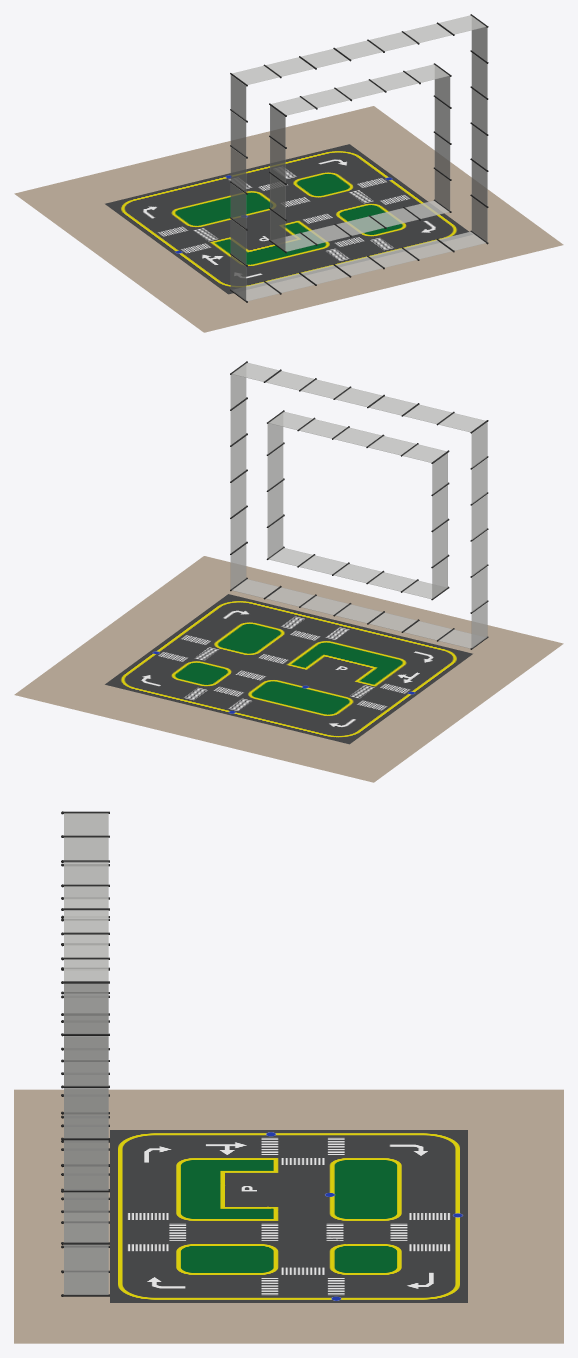
Rendered from track-v2.fbx.
3 views of the same model, one above another, from view 1: azimuth 30°, elevation 25°; view 2: azimuth 150°, elevation 25°; view 3: azimuth 270°, elevation 25° (orthographic). The views are drawn at different scales.
Visible parts, largest first — view 1: Floor, Mat, Panel-1, Panel-2, Panel-3, Panel-4, Panel-5, Panel-6, Panel-37, Panel-38, Panel-16, Panel-15 (+34 smaller); view 2: Floor, Mat, Panel-3, Panel-4, Panel-6, Panel-1, Panel-2, Panel-5, Panel-37, Panel-38, Panel-16, Panel-17 (+26 smaller); view 3: Floor, Mat, Panel-14, Panel-15, Panel-16, Panel-17, Panel-18, Panel-19, Panel-37, Panel-38, Panel-6, Panel-36 (+17 smaller).
Boxes of the visible parts, <box> form: Floor: <box>14,106,563,332</box>; Mat: <box>105,144,472,294</box>; Panel-1: <box>230,255,246,300</box>; Panel-2: <box>230,219,246,264</box>; Panel-3: <box>230,183,246,228</box>; Panel-4: <box>230,147,246,192</box>; Panel-5: <box>230,111,246,156</box>; Panel-6: <box>230,75,246,120</box>; Panel-37: <box>434,97,450,142</box>; Panel-38: <box>434,133,450,178</box>; Panel-16: <box>471,88,487,133</box>; Panel-15: <box>471,52,487,97</box>; Floor: <box>14,556,563,782</box>; Mat: <box>105,594,472,744</box>; Panel-3: <box>471,530,487,575</box>; Panel-4: <box>471,494,487,539</box>; Panel-6: <box>471,422,487,467</box>; Panel-1: <box>471,602,487,647</box>; Panel-2: <box>471,566,487,611</box>; Panel-5: <box>471,458,487,503</box>; Panel-37: <box>267,445,283,489</box>; Panel-38: <box>267,481,283,525</box>; Panel-16: <box>230,436,246,480</box>; Panel-17: <box>230,472,246,516</box>; Floor: <box>14,1089,563,1343</box>; Mat: <box>110,1130,467,1302</box>; Panel-14: <box>64,983,108,1033</box>; Panel-15: <box>64,1036,108,1086</box>; Panel-16: <box>64,1088,108,1138</box>; Panel-17: <box>64,1140,108,1190</box>; Panel-18: <box>64,1192,108,1242</box>; Panel-19: <box>64,1244,108,1294</box>; Panel-37: <box>64,1062,107,1111</box>; Panel-38: <box>64,1115,107,1163</box>; Panel-6: <box>64,814,107,859</box>; Panel-36: <box>64,1016,107,1059</box>.
Size of the model in its own units: 4.7 by 2.76 by 4.3.
Materials: 4 (1 with a texture image).
